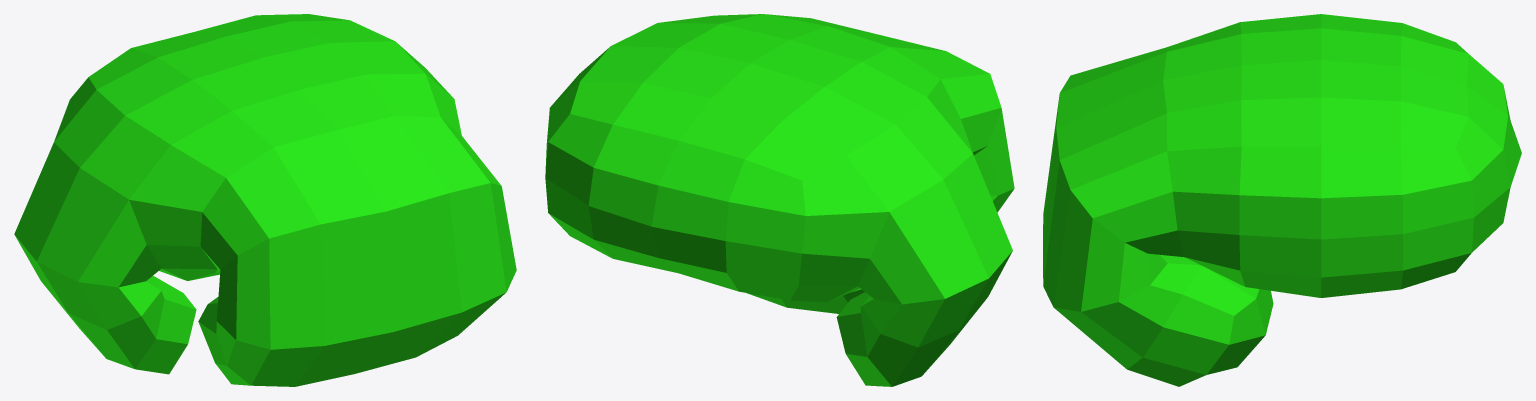
Rendered from Luva.fbx.
3 views of the same model, side by side, from view 1: azimuth 30°, elevation 25°; view 2: azimuth 150°, elevation 25°; view 3: azimuth 270°, elevation 25° (orthographic). The views are drawn at different scales.
Parts seen in each view (by area): view 1: Luva; view 2: Luva; view 3: Luva.
Part boxes in pixels (box(x1,y1,x2,y2)): Luva: box(14, 14, 516, 386); Luva: box(545, 14, 1014, 386); Luva: box(1043, 14, 1521, 386).
Size of the model in its own units: 20.31 by 13.5 by 20.04.
